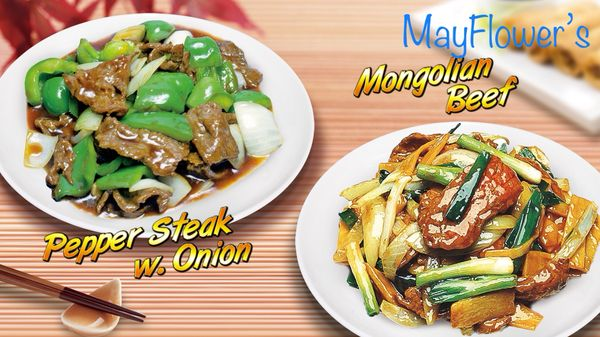curry: (1, 0, 600, 334)
